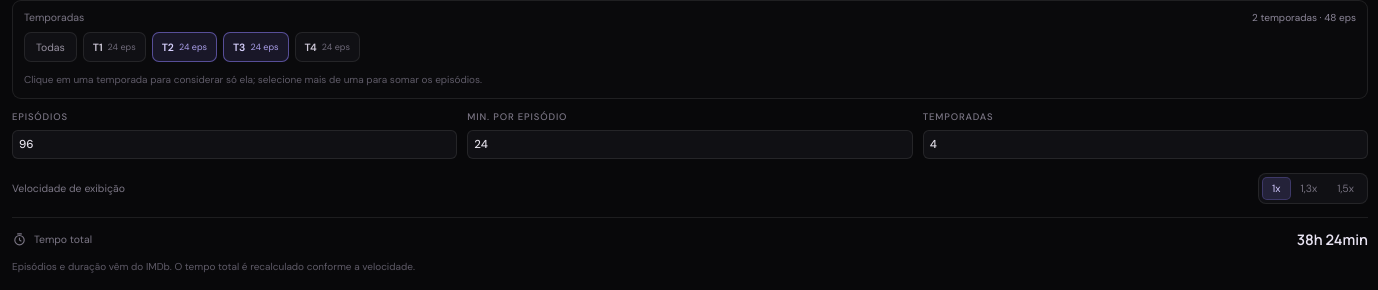
Test case: TimeFields (séries) › remove uma temporada clicando novamente
The width and height of the screenshot is (1378, 290).
Click the button "T2 24 eps". click: (184, 47)
box: [152,32,217,62]
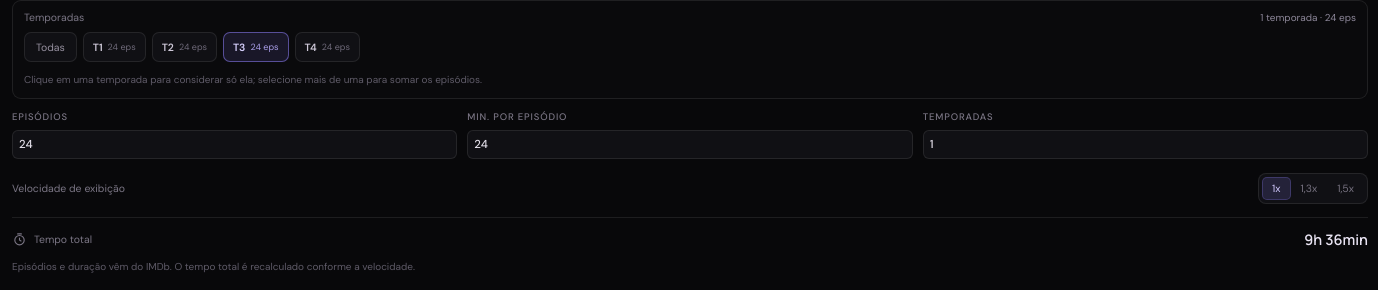
Result: the text "1 temporada · 24 eps" is shown at [1260,11,1356,24]
